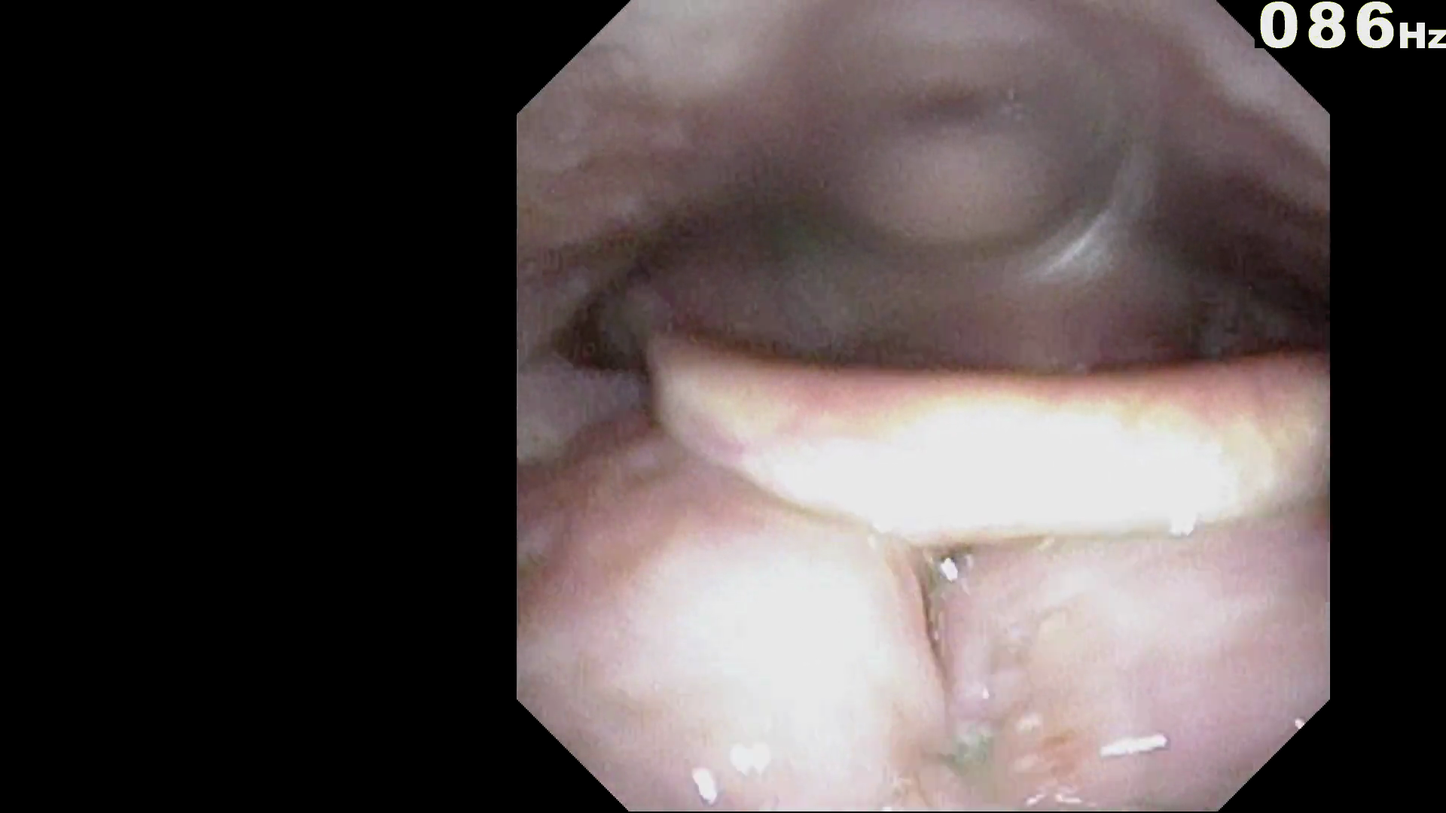epiglottis: (649, 421, 1292, 646)
